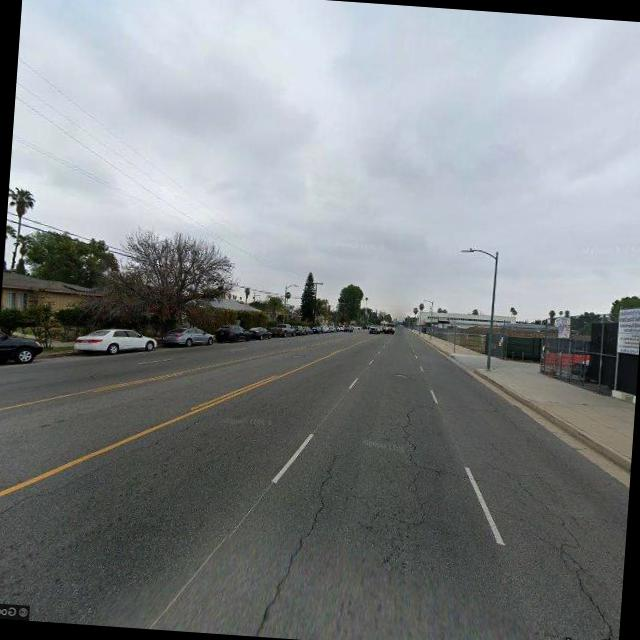pothole: (502, 472, 630, 638), (247, 450, 342, 640), (392, 399, 439, 525)
